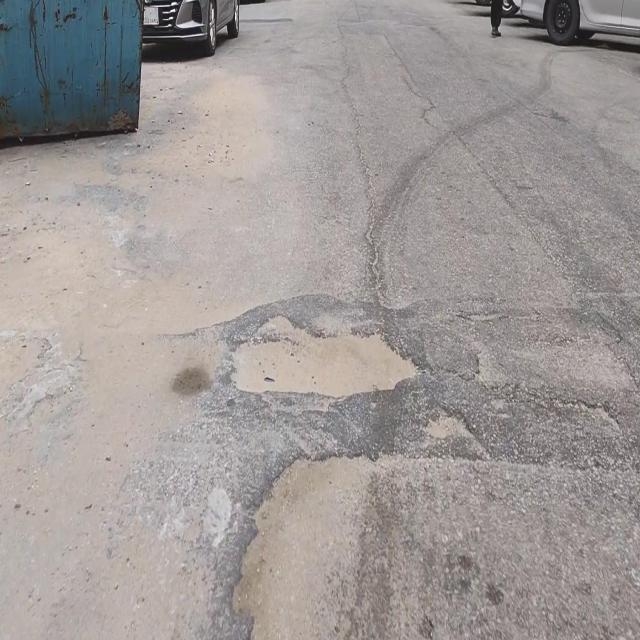Potholes: (227, 446, 396, 640), (225, 309, 425, 399)
